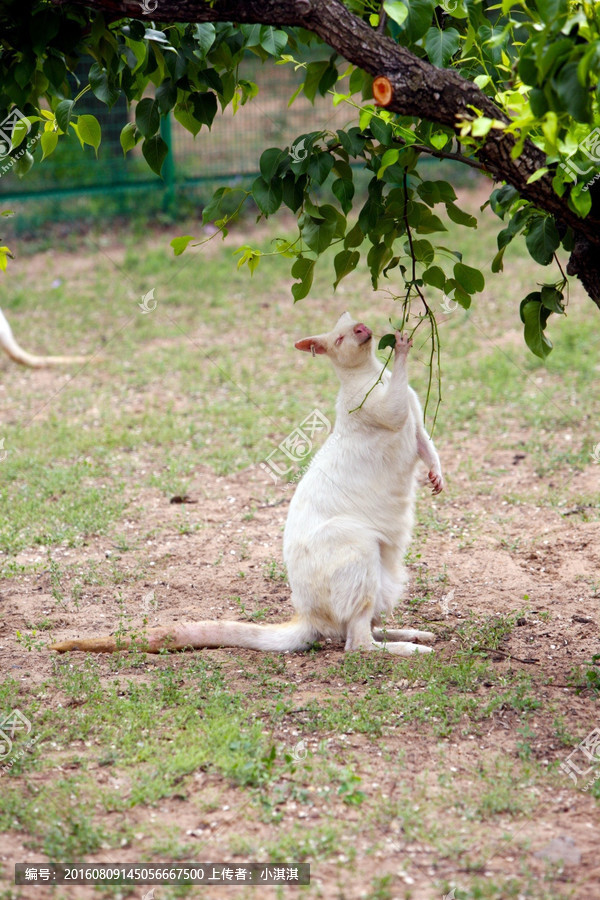kangaroo: (52, 314, 447, 668)
